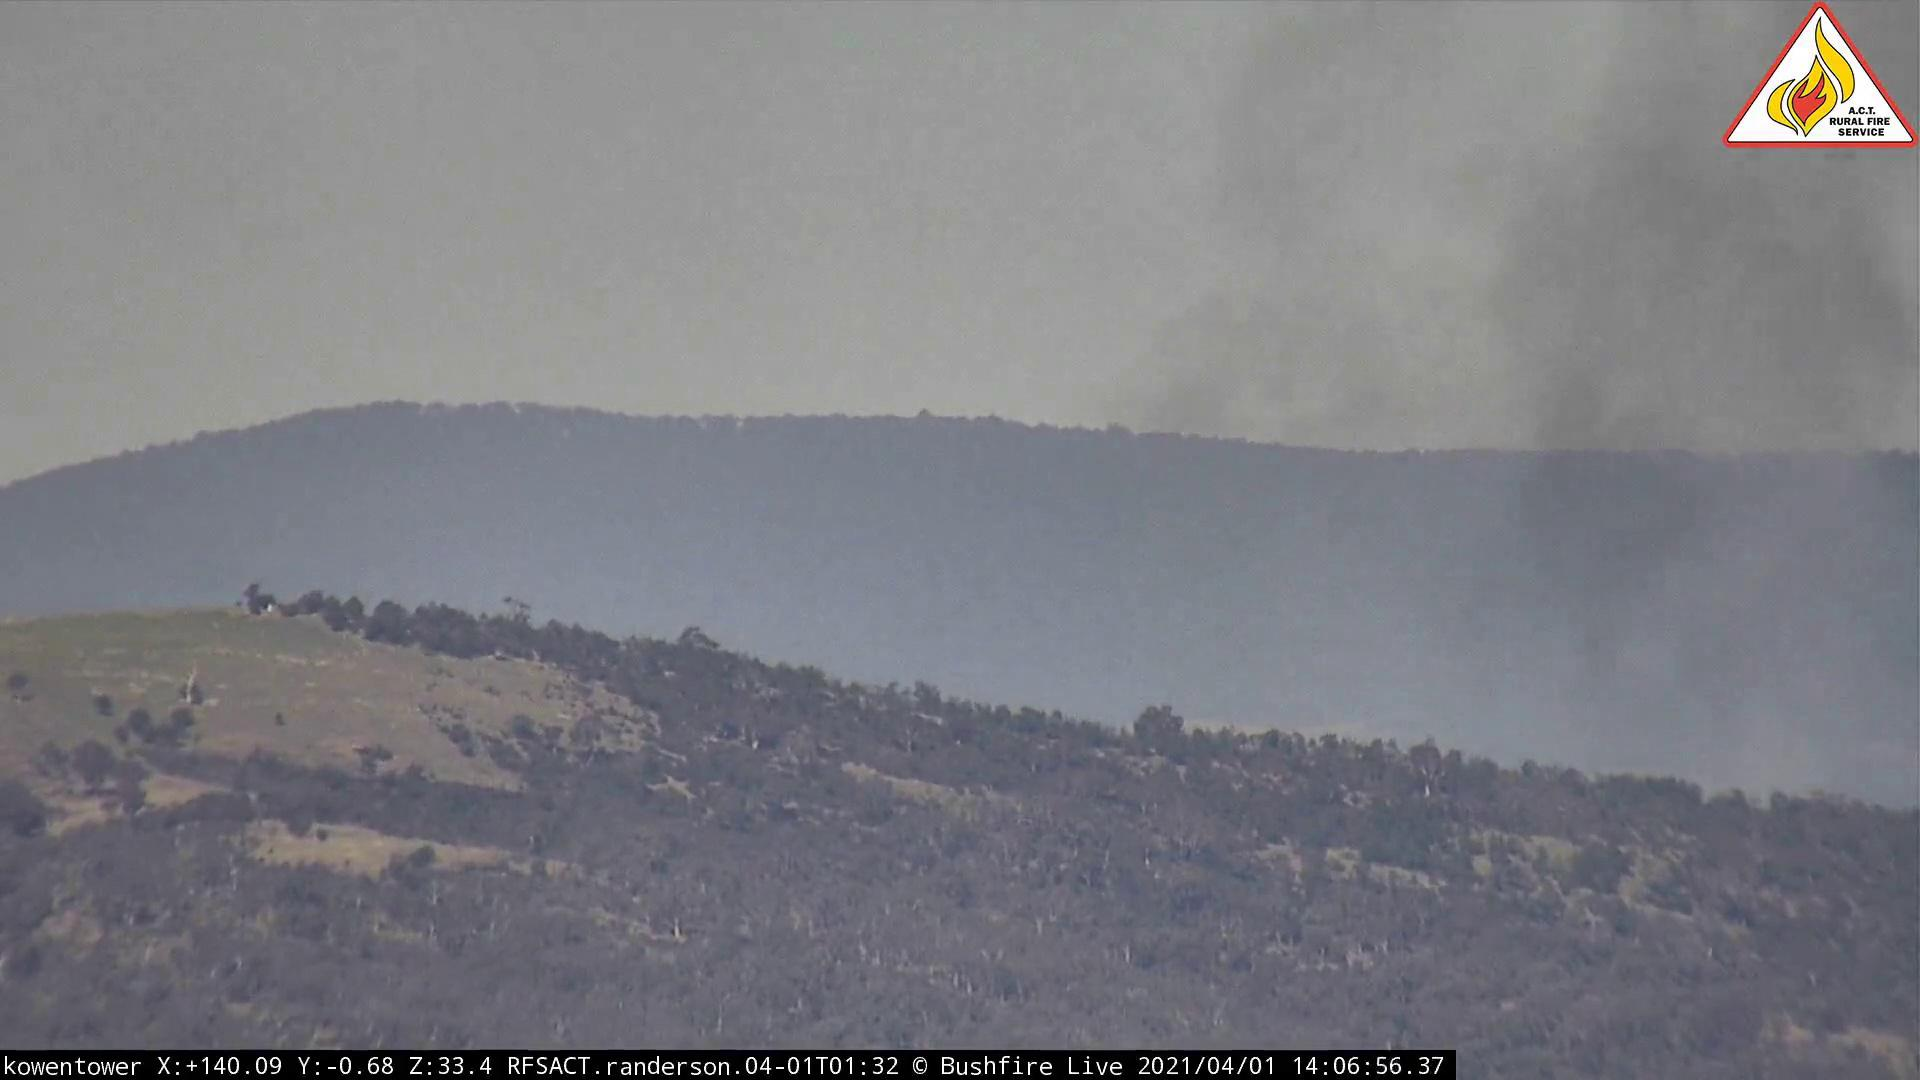Smoke: (1112, 174, 1920, 856)
